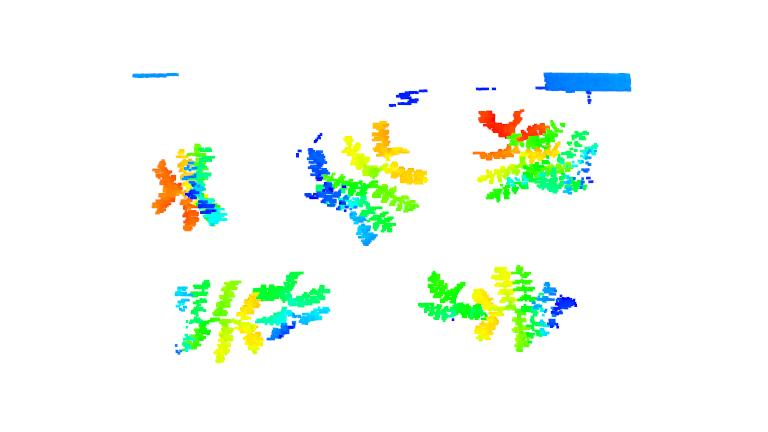chickpea: (308, 120, 430, 248), (480, 104, 595, 212), (475, 260, 577, 350), (169, 274, 267, 366), (147, 136, 229, 233), (252, 268, 331, 343), (419, 267, 479, 325)
